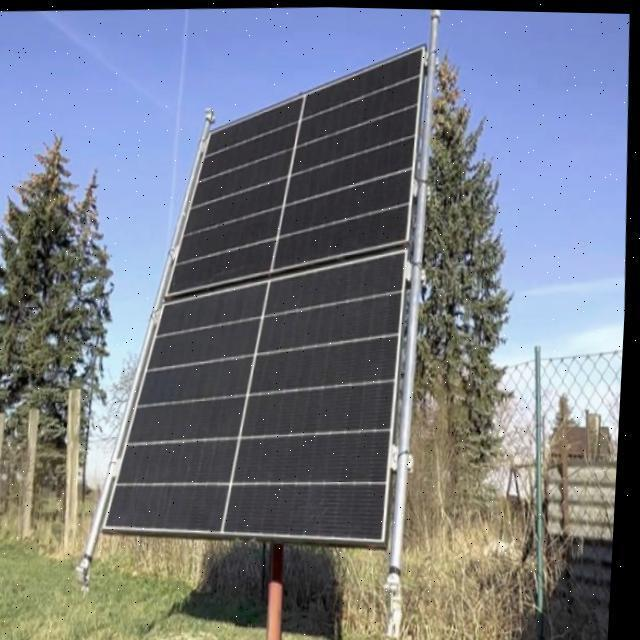Normal Solar Panel: (90, 36, 442, 552)
